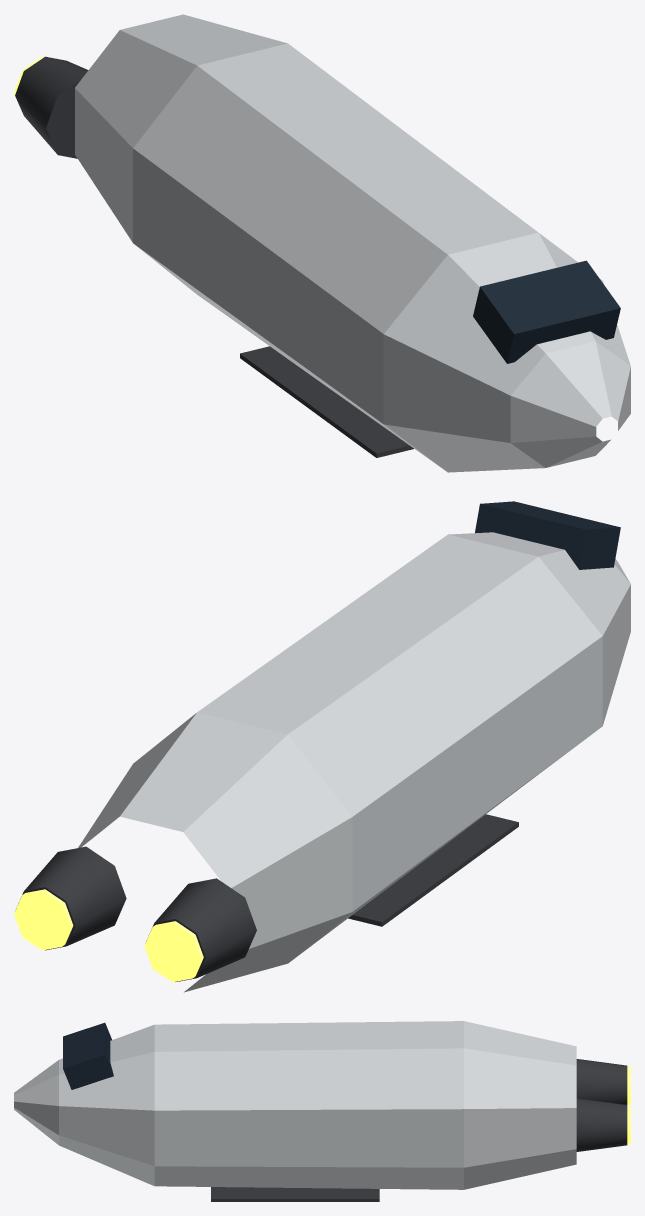
The model's file is space_ship_transport_mk1.glb.
The picture shows the model from 3 angles, top to bottom: view 1: azimuth 30°, elevation 25°; view 2: azimuth 150°, elevation 25°; view 3: azimuth 270°, elevation 25°; orthographic projection. The views are drawn at different scales.
Visible parts, largest first — view 1: body, hangar_door, engine_1; view 2: body, engine_0, engine_1, hangar_door; view 3: body, engine_0, hangar_door, engine_1.
Boxes of the visible parts, x1,y1,x2,y2 form: body: (75,14,630,472); hangar_door: (240,346,413,457); engine_1: (14,56,88,158); body: (78,501,630,992); engine_0: (14,846,126,950); engine_1: (144,878,256,982); hangar_door: (348,814,518,926); body: (14,1021,576,1189); engine_0: (576,1098,630,1151); hangar_door: (211,1187,379,1201); engine_1: (576,1059,630,1104).
Size of what is drawn, in the model's own units: 5 by 5.15 by 19.74.
